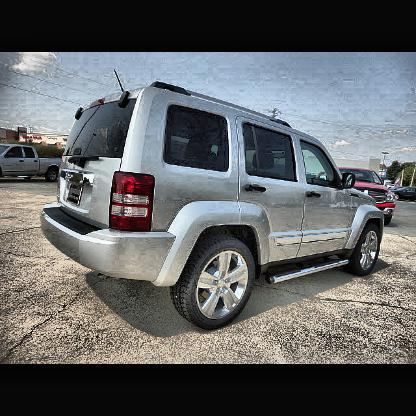Jeep Liberty SUV 2012: (40, 82, 387, 330)
